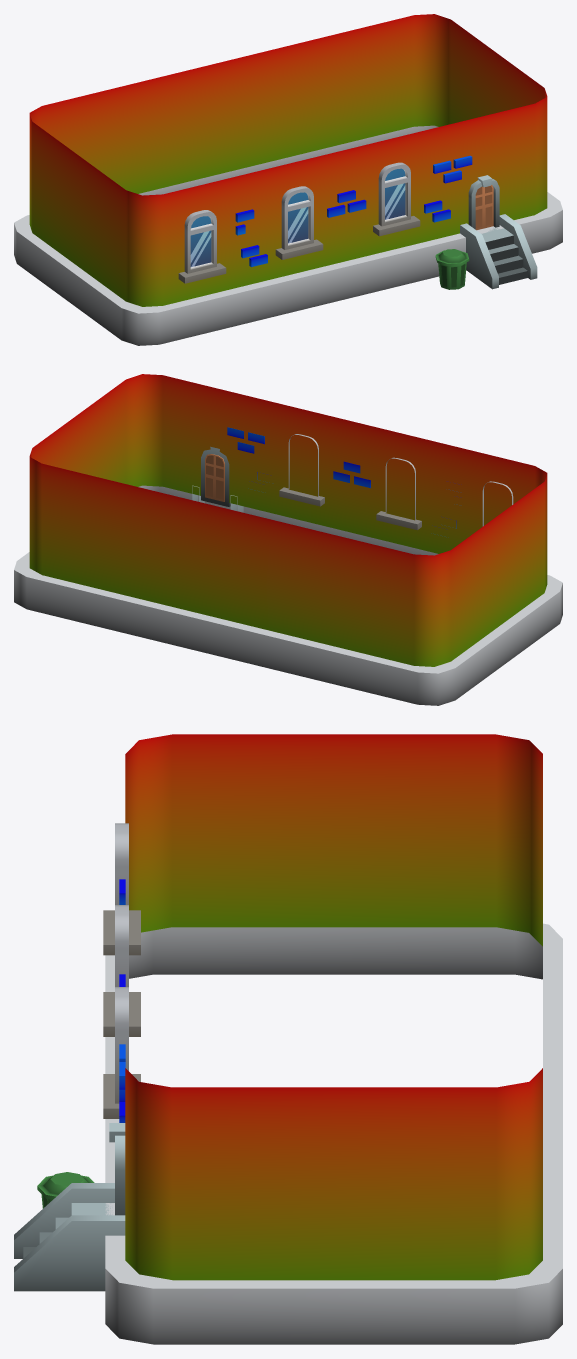
The model's file is House 2 Bottom.fbx.
3 renders of one model, top to bottom at view 1: azimuth 30°, elevation 25°; view 2: azimuth 150°, elevation 25°; view 3: azimuth 270°, elevation 25°, orthographic. The views are drawn at different scales.
Parts seen in each view (by area): view 1: Cube.005; view 2: Cube.005; view 3: Cube.005.
Part boxes in pixels (x1=…): Cube.005: x1=14, y1=14, x2=562, y2=345; Cube.005: x1=14, y1=374, x2=562, y2=705; Cube.005: x1=14, y1=734, x2=562, y2=1344.
Size of the model in its own units: 210 by 65.96 by 131.
